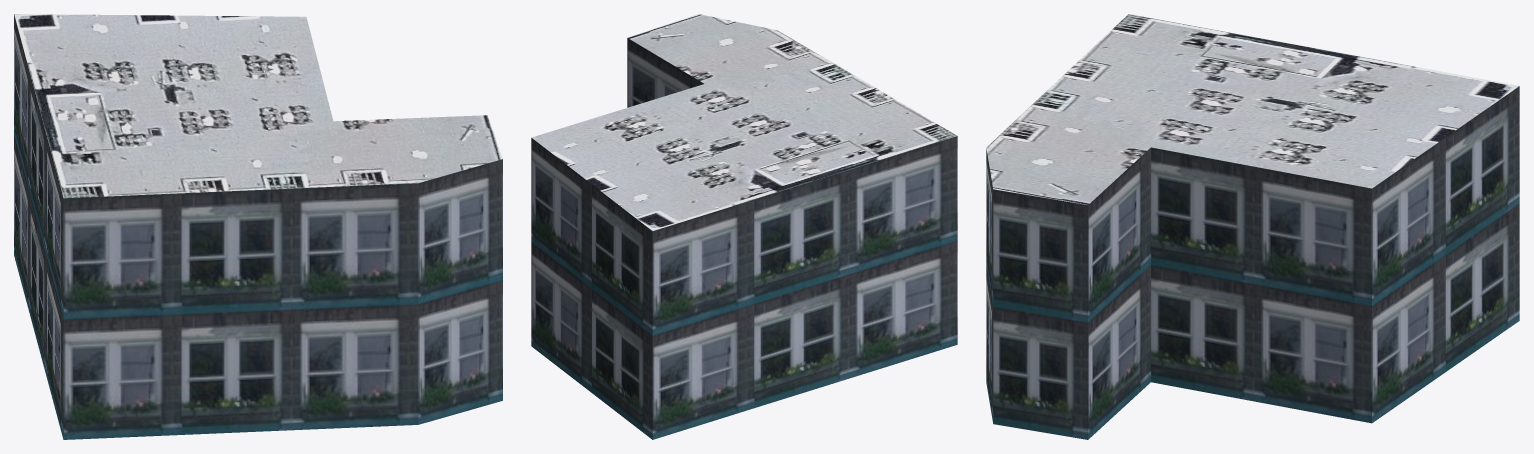
Rendered from ResTex__2257.fbx.
The picture shows the model from 3 angles, left to right: view 1: azimuth 30°, elevation 25°; view 2: azimuth 150°, elevation 25°; view 3: azimuth 270°, elevation 25°; orthographic projection. The views are drawn at different scales.
Visible parts, largest first — view 1: CityEngineMaterial_11_m, CityEngineMaterial_m; view 2: CityEngineMaterial_11_m, CityEngineMaterial_m; view 3: CityEngineMaterial_11_m, CityEngineMaterial_m.
Part boxes in pixels (box(x1,y1,x2,y2)): CityEngineMaterial_11_m: box(14, 14, 502, 439); CityEngineMaterial_m: box(14, 14, 502, 198); CityEngineMaterial_11_m: box(531, 38, 957, 439); CityEngineMaterial_m: box(531, 14, 956, 230); CityEngineMaterial_11_m: box(986, 86, 1519, 439); CityEngineMaterial_m: box(986, 14, 1518, 204).
Bounding box in the file's own units: 10.48 × 6 × 12.35.
Materials: 2 (2 with a texture image).
